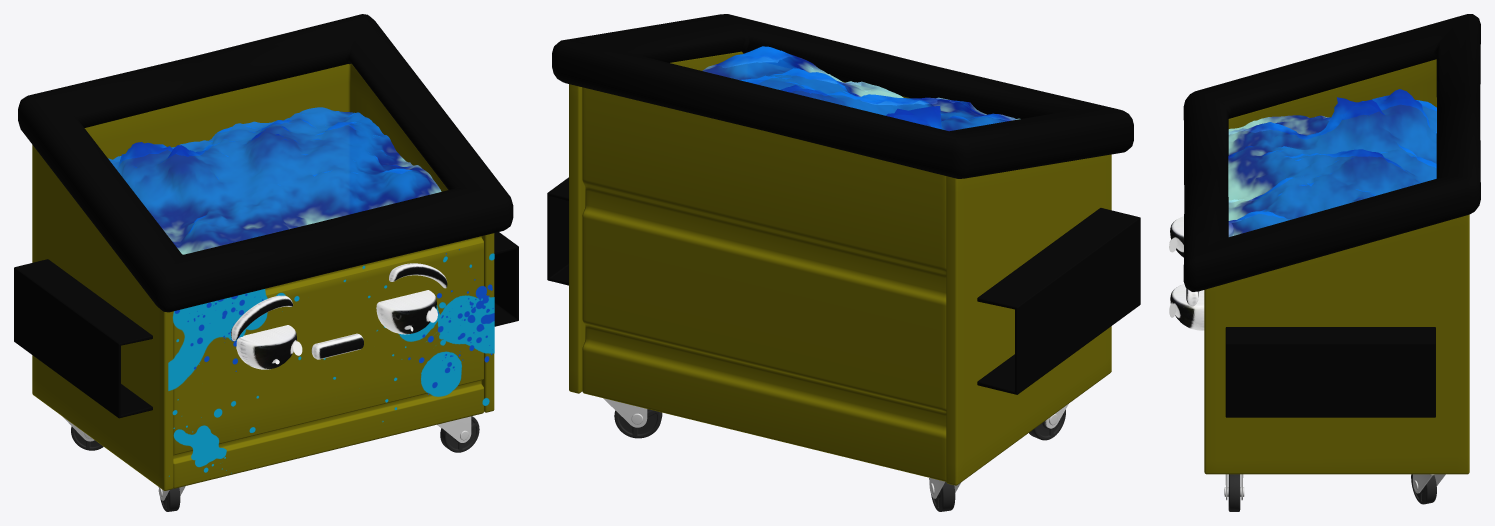
3 views of the same model, side by side, from view 1: azimuth 30°, elevation 25°; view 2: azimuth 150°, elevation 25°; view 3: azimuth 270°, elevation 25° (orthographic). The views are drawn at different scales.
Visible parts, largest first — view 1: Dumpster Geometry, Explosion Fire Base.001, Wheel Holder; view 2: Dumpster Geometry, Explosion Fire Base.001, Wheel Holder; view 3: Dumpster Geometry, Explosion Fire Base.001, Wheel Holder.
Boxes of the visible parts, x1,y1,x2,y2 form: Dumpster Geometry: (14, 14, 518, 511); Explosion Fire Base.001: (108, 107, 441, 254); Wheel Holder: (62, 416, 471, 500); Dumpster Geometry: (547, 14, 1140, 511); Explosion Fire Base.001: (702, 46, 1020, 131); Wheel Holder: (603, 398, 1068, 498); Dumpster Geometry: (1169, 14, 1480, 511); Explosion Fire Base.001: (1228, 89, 1436, 236); Wheel Holder: (1224, 474, 1445, 500).
Size of what is drawn, in the model's own units: 2.3 by 1.89 by 1.56.
Materials: 9 (5 with a texture image).
